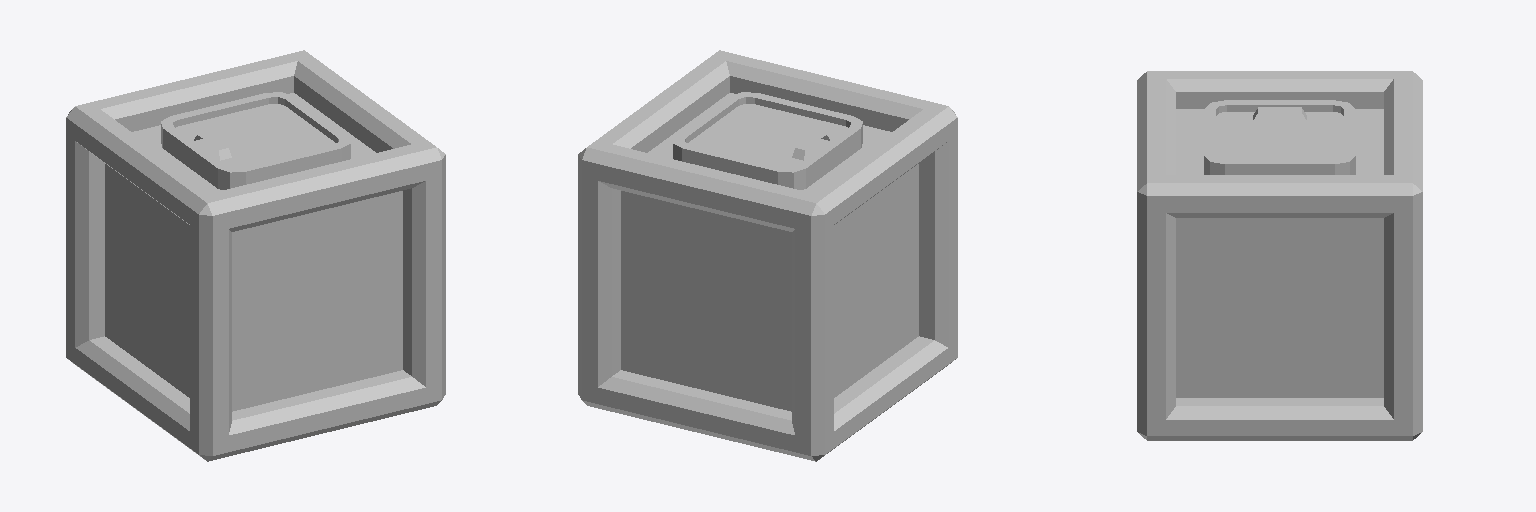
Rendered from crate1.obj.
3 renders of one model, left to right at view 1: azimuth 30°, elevation 25°; view 2: azimuth 150°, elevation 25°; view 3: azimuth 270°, elevation 25°, orthographic.
Size of the model in its own units: 2 by 2 by 2.